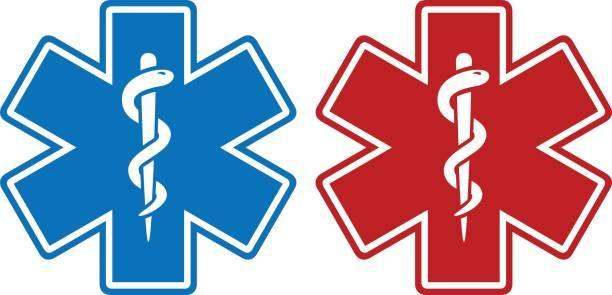Ambulance: (0, 0, 303, 295), (312, 0, 612, 295)
